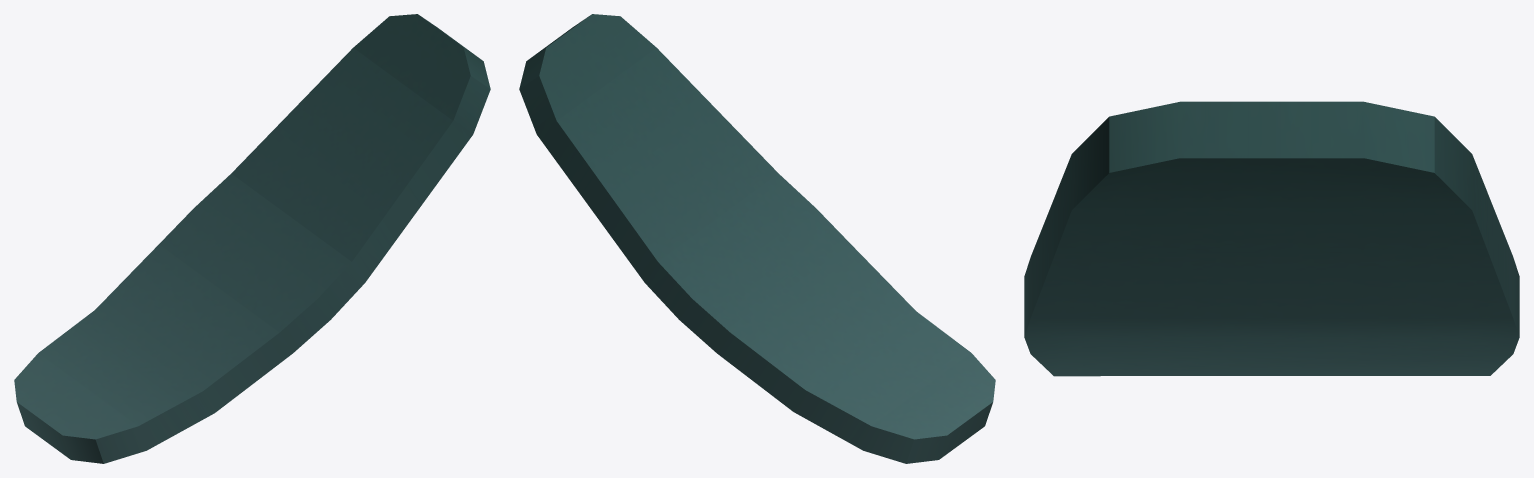
The model's file is door_capsule.fbx.
3 renders of one model, left to right at view 1: azimuth 30°, elevation 25°; view 2: azimuth 150°, elevation 25°; view 3: azimuth 270°, elevation 25°, orthographic. The views are drawn at different scales.
Visible parts, largest first — view 1: pCube64; view 2: pCube64; view 3: pCube64.
Boxes of the visible parts, box(x1,y1,x2,y2) form: pCube64: box(14, 14, 490, 463); pCube64: box(519, 14, 995, 463); pCube64: box(1024, 101, 1519, 376).
Size of the model in its own units: 22.16 by 15.92 by 11.29.
1 material, 1 textured.
